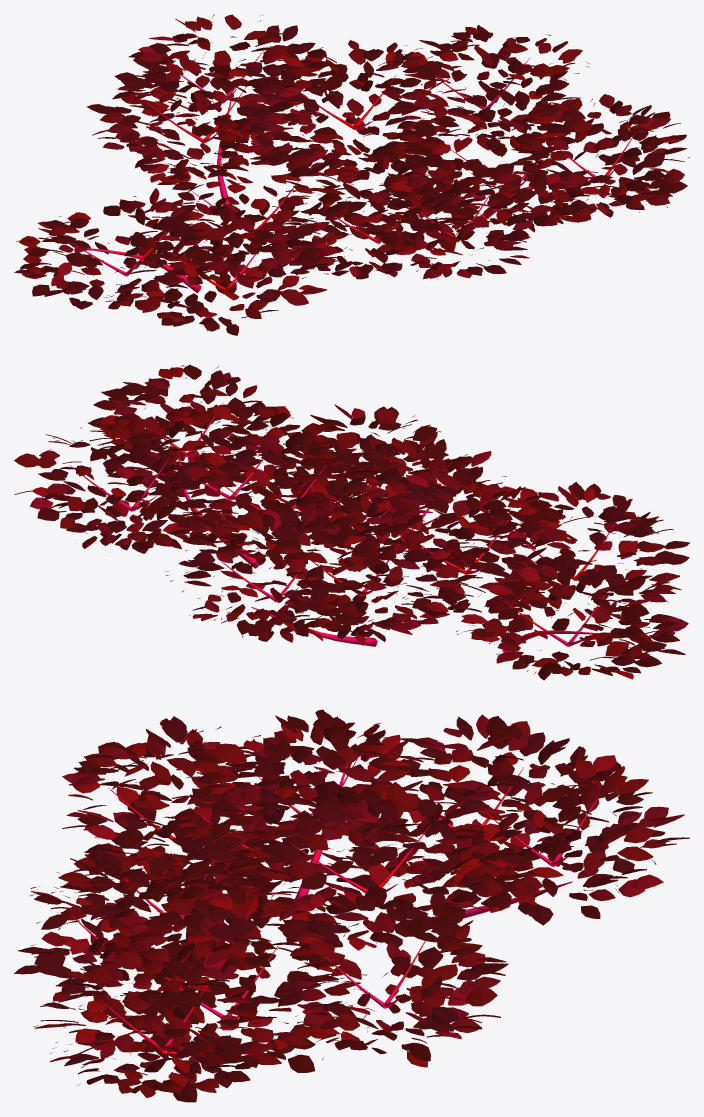
Rendered from SM_Canopy.fbx.
3 views of the same model, one above another, from view 1: azimuth 30°, elevation 25°; view 2: azimuth 150°, elevation 25°; view 3: azimuth 270°, elevation 25° (orthographic). The views are drawn at different scales.
Visible parts, largest first — view 1: SM_Canopy; view 2: SM_Canopy; view 3: SM_Canopy.
Boxes of the visible parts, bbox=[...] form: SM_Canopy: bbox=[14, 14, 689, 335]; SM_Canopy: bbox=[14, 364, 689, 680]; SM_Canopy: bbox=[14, 709, 689, 1102].
Size of the model in its own units: 748 by 1022 by 270.
